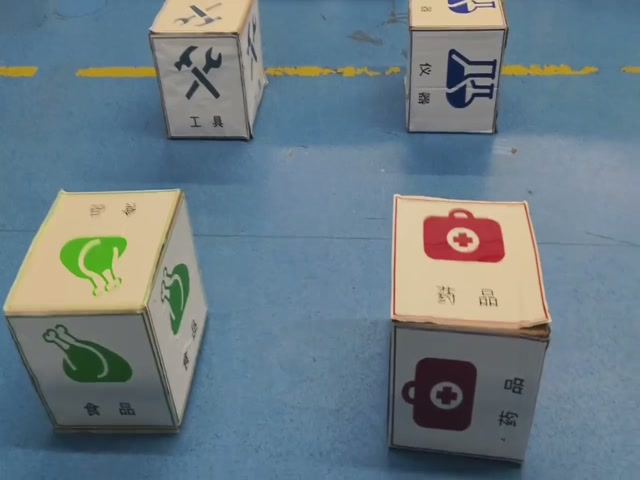Cube_food: (0, 185, 183, 319)
Cube_ins: (404, 0, 511, 32)
Cube_medicine: (387, 192, 550, 339)
Cube_tool: (146, 0, 256, 38)
